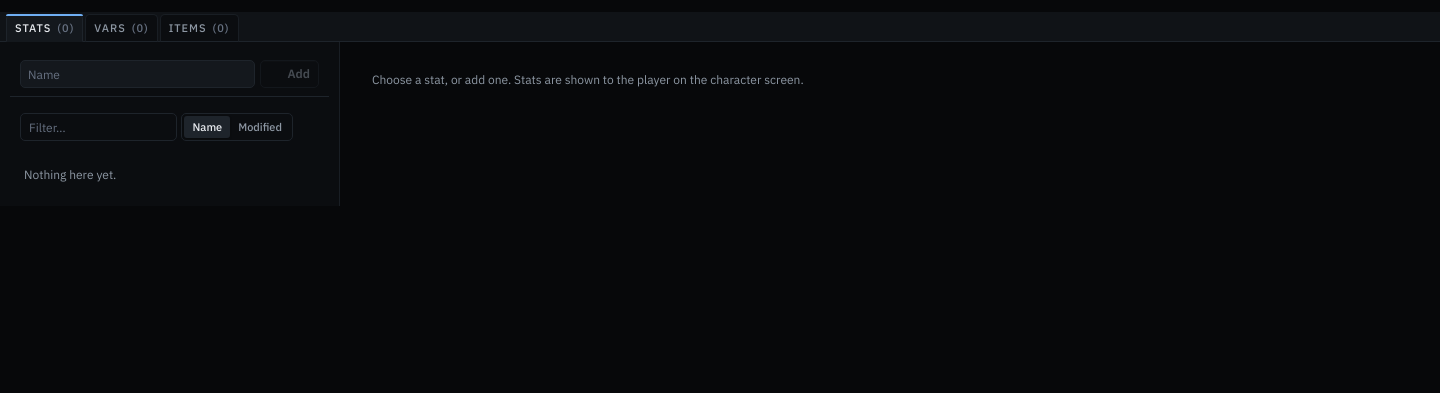
Test: StatsPanel › creates hidden vars on their own tab without presentation fields
Click the tab "Vars (0)" at {"x": 122, "y": 28}, box x1=85 y1=14 x2=158 y2=42
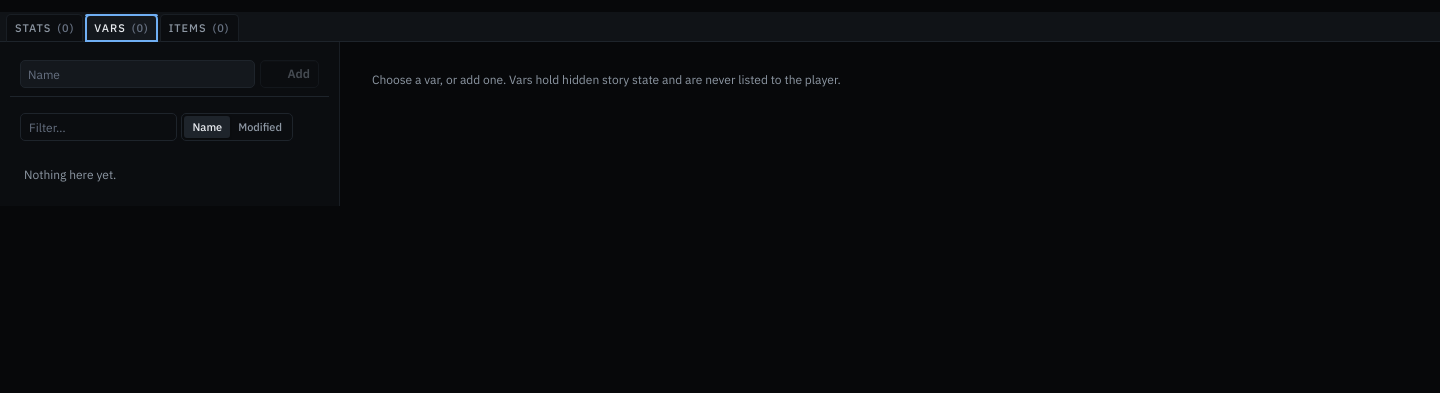
Type "Has met Wren" into the field named "New var name" at {"x": 137, "y": 74}, box x1=20 y1=60 x2=254 y2=88
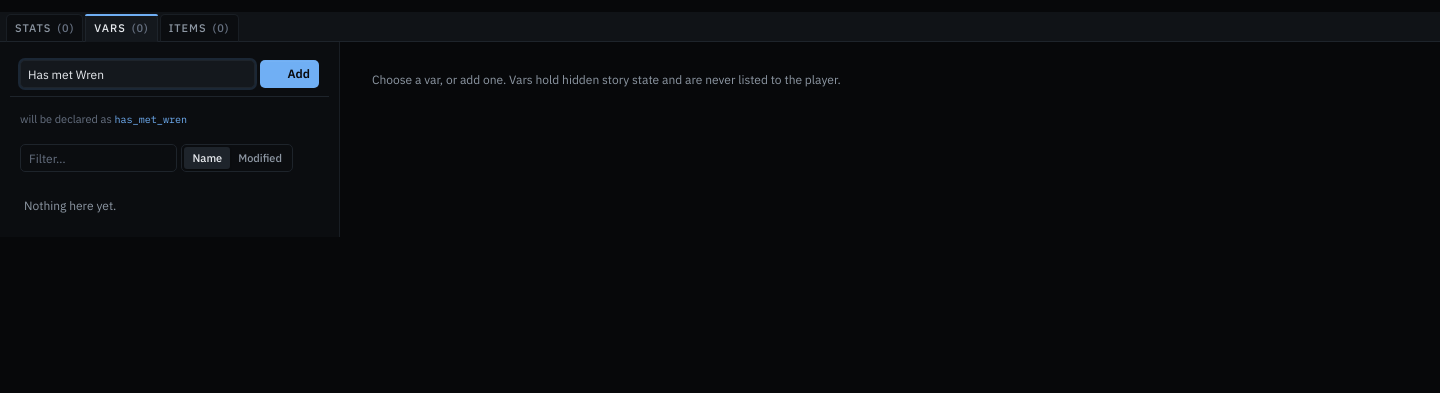
Click the button "Add" at {"x": 289, "y": 74}, box x1=260 y1=60 x2=319 y2=88
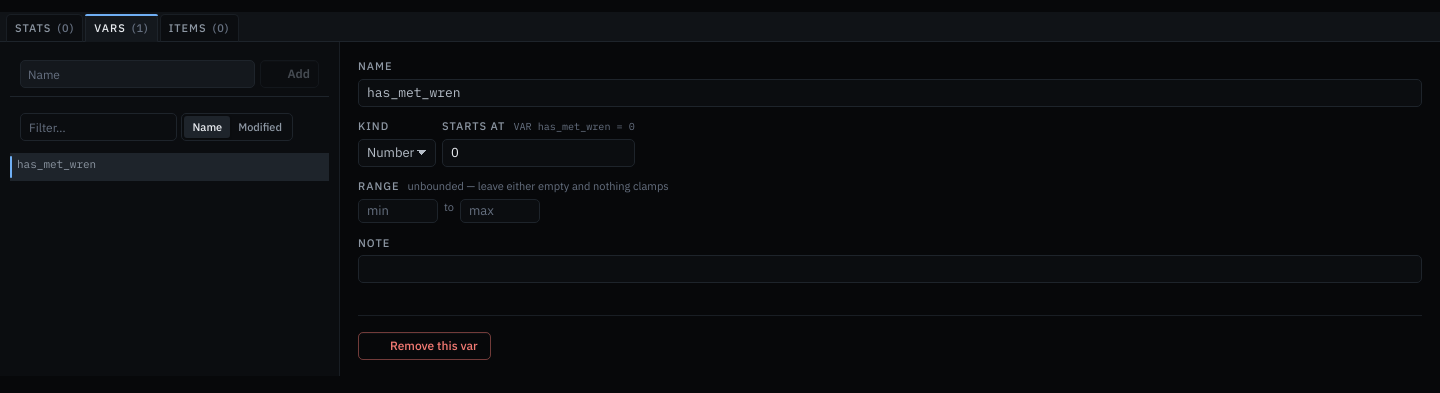
expect the 2nd field showing "has_met_wren" is shown: met, box x1=358 y1=79 x2=1422 y2=107
expect the button with aria-label "Remove has_met_wren" reads "Remove this var": met, box x1=358 y1=332 x2=491 y2=360
